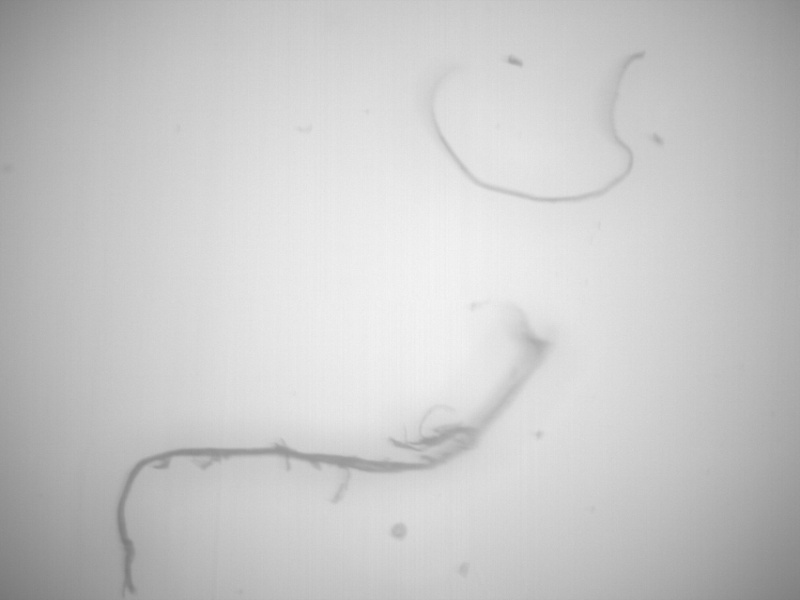fiber: (113, 302, 555, 596), (426, 48, 649, 204)
